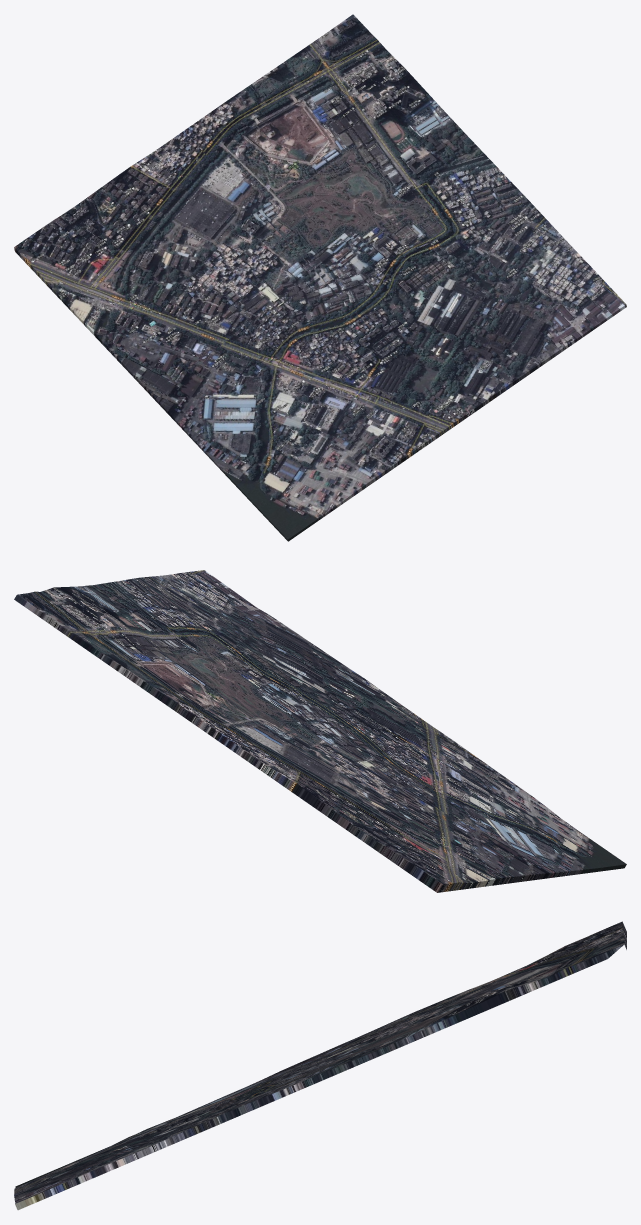
The picture shows the model from 3 angles, top to bottom: view 1: azimuth 30°, elevation 25°; view 2: azimuth 150°, elevation 25°; view 3: azimuth 270°, elevation 25°; orthographic projection. The views are drawn at different scales.
Visible parts, largest first — view 1: 1_8_3; view 2: 1_8_3; view 3: 1_8_3.
Part boxes in pixels (box(x1,y1,x2,y2)): 1_8_3: box(14, 14, 626, 541); 1_8_3: box(14, 570, 626, 892); 1_8_3: box(14, 921, 626, 1210).
Bounding box in the file's own units: 1230 × 893 × 1126.
1 material, 1 textured.
